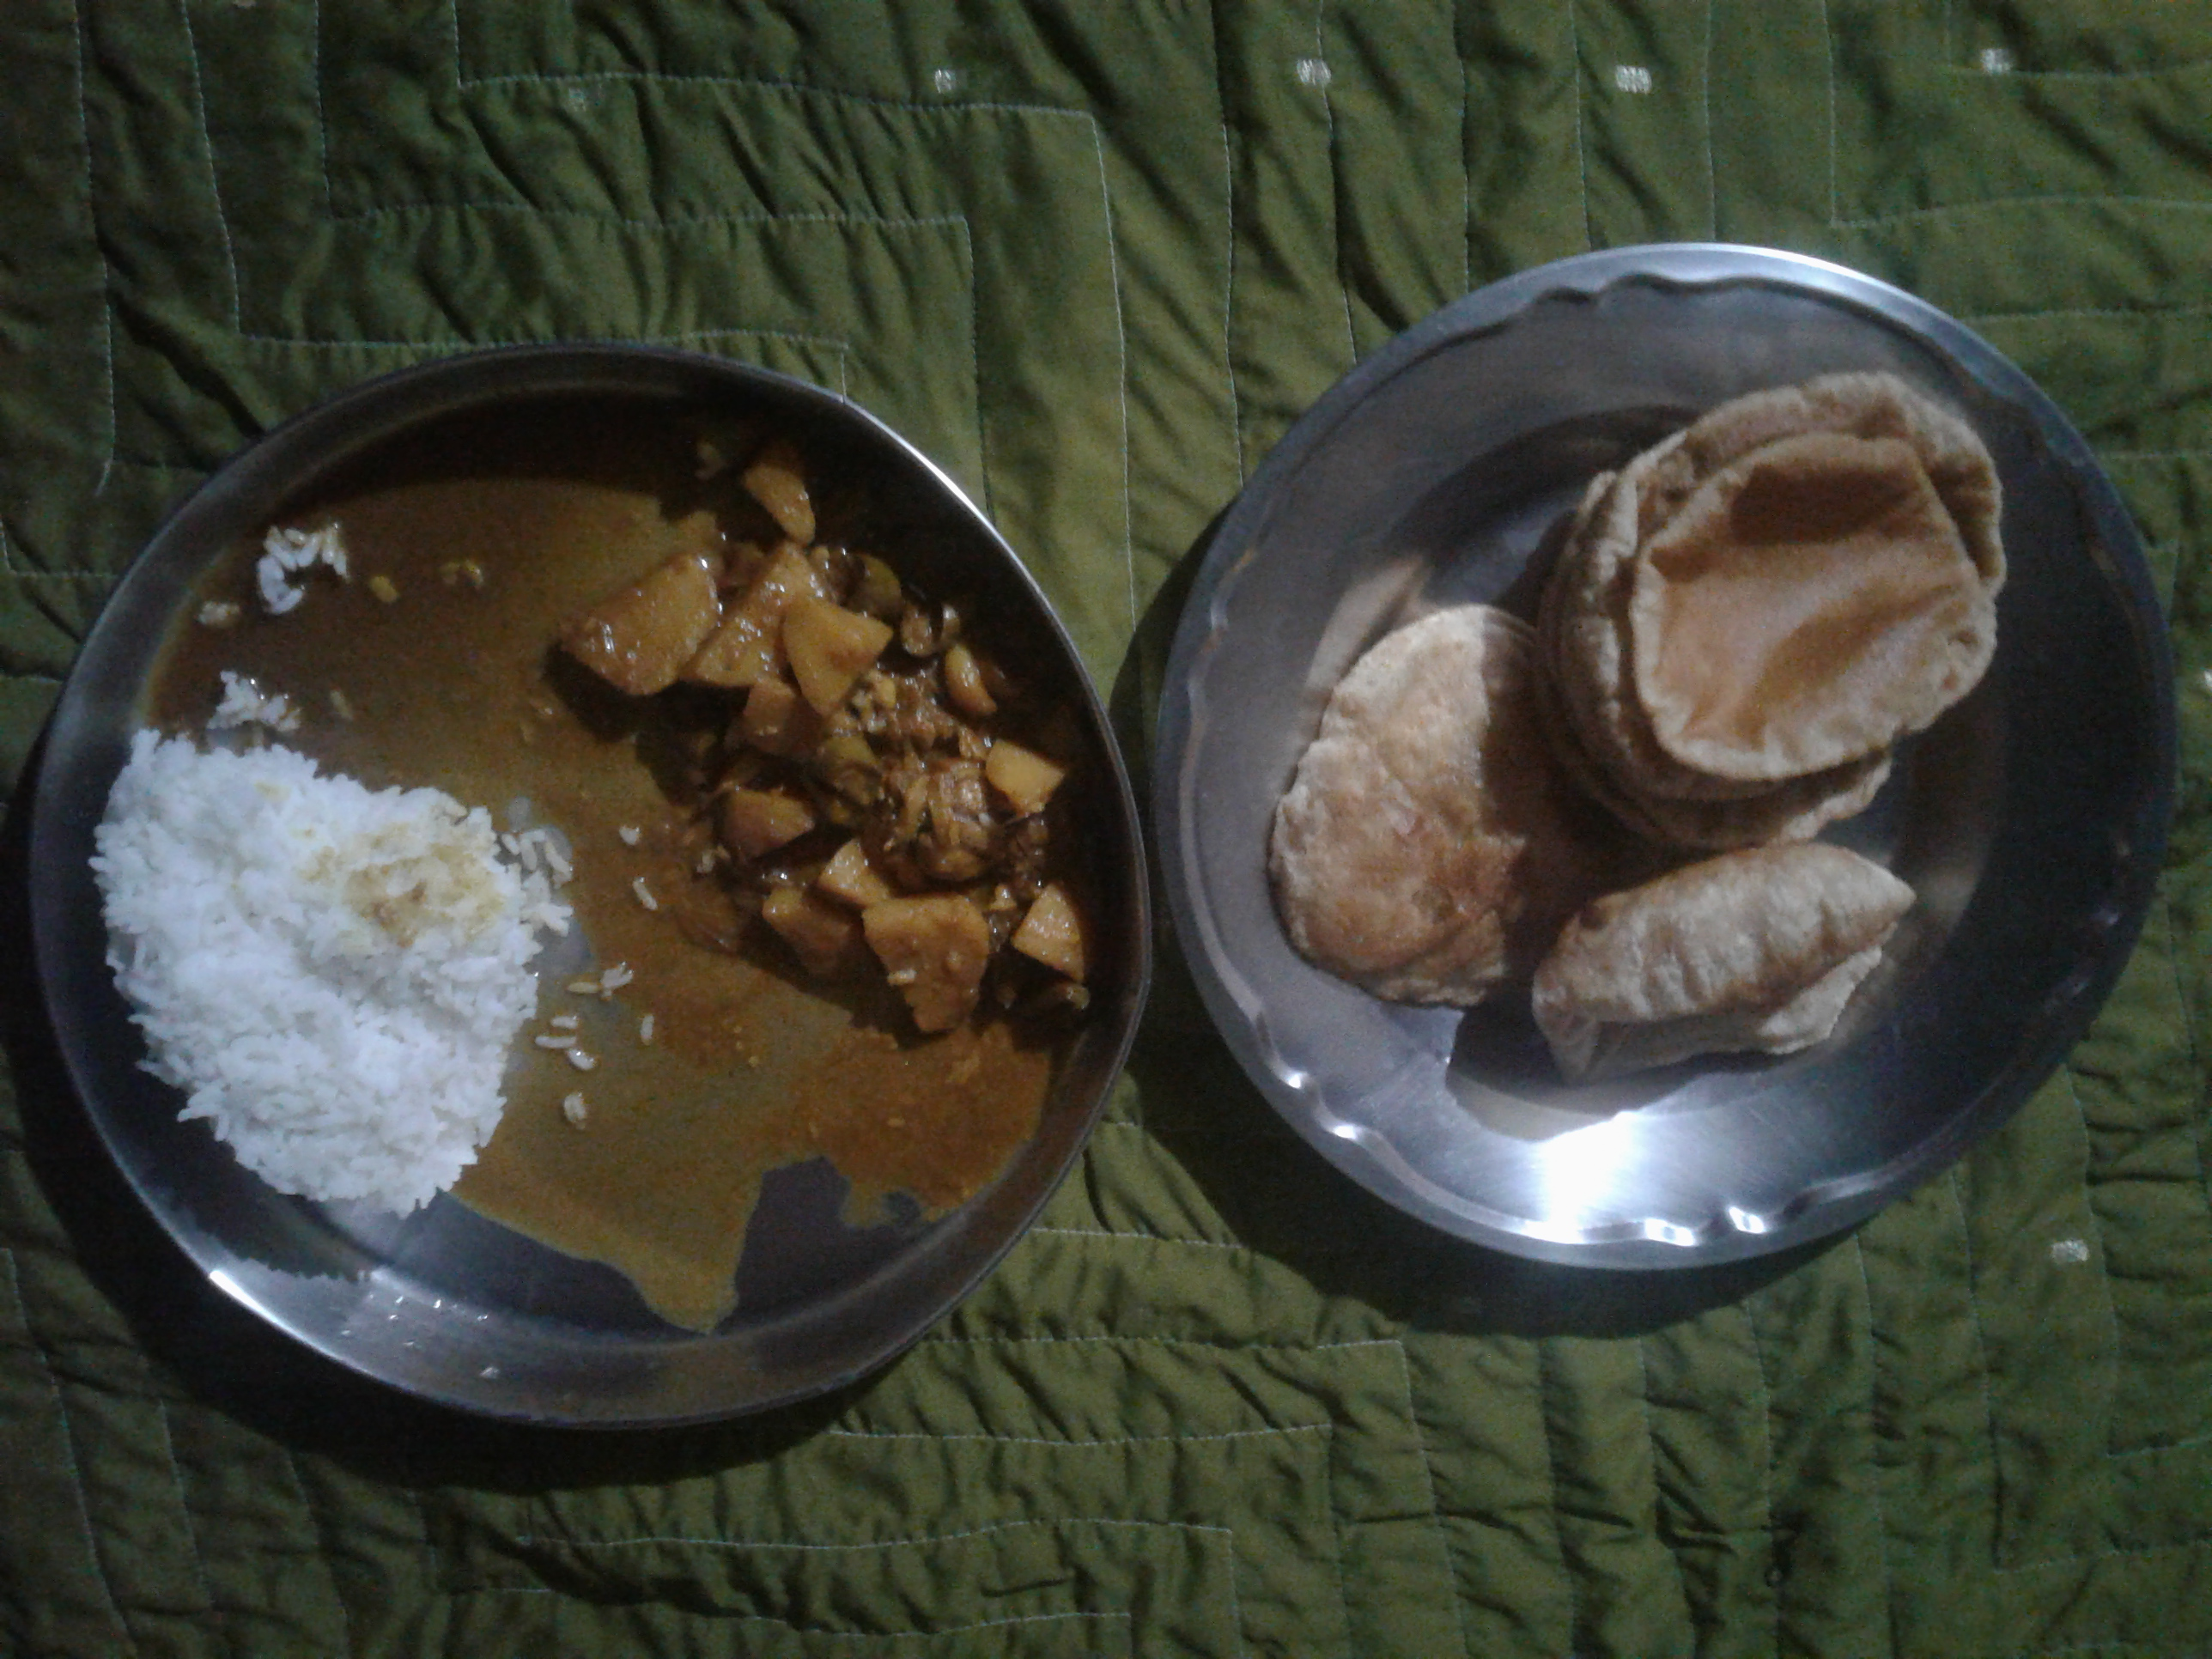food: (66, 368, 1118, 1342), (1264, 355, 2019, 1094)
